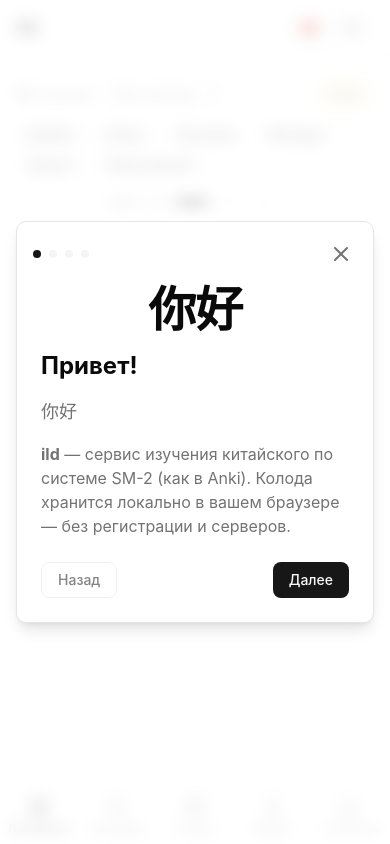
Test: App onboarding integration › shows the onboarding dialog on first visit and hides it after skip
The image size is (390, 844).
Expected: the heading "Привет!" is shown, [41,351,138,380]
Click the button named "Пропустить". click: [341, 254]
box: [325,238,357,270]
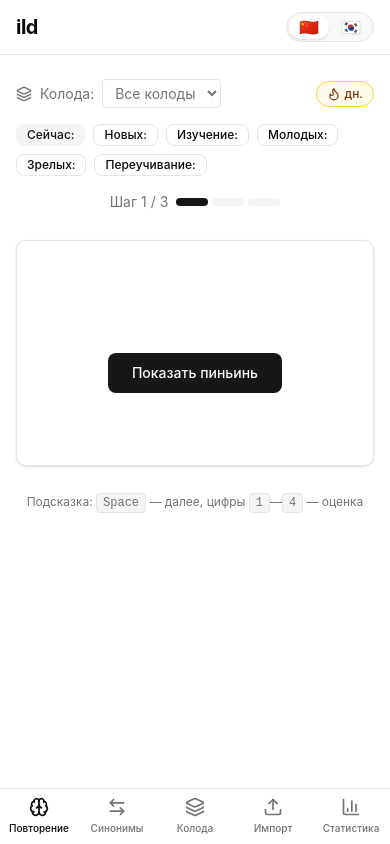
Expected: the dialog is gone
